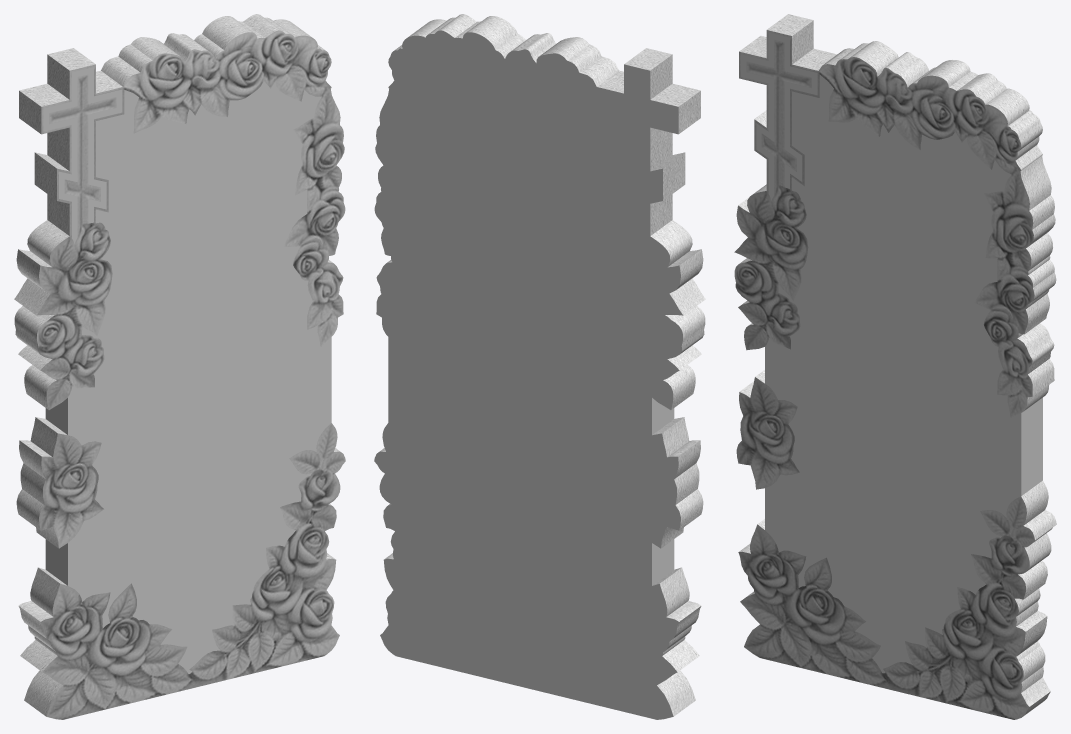
Rendered from cnb88ce8cce7_tkf.glb.
The picture shows the model from 3 angles, left to right: view 1: azimuth 30°, elevation 25°; view 2: azimuth 150°, elevation 25°; view 3: azimuth 330°, elevation 25°; orthographic projection. The views are drawn at different scales.
Parts seen in each view (by area): view 1: Pam-d03-051, Pam-d03-051_2_notexture; view 2: Pam-d03-051, Pam-d03-051_2_notexture; view 3: Pam-d03-051, Pam-d03-051_2_notexture.
Part boxes in pixels (x1,y1,x2,y2): Pam-d03-051: (43, 67, 331, 673); Pam-d03-051_2_notexture: (14, 14, 345, 719); Pam-d03-051: (374, 30, 683, 719); Pam-d03-051_2_notexture: (378, 14, 705, 716); Pam-d03-051: (741, 32, 1042, 673); Pam-d03-051_2_notexture: (734, 14, 1056, 719).
Size of the model in its own units: 0.4 by 0.8 by 0.05.
Materials: 1 (1 with a texture image).
